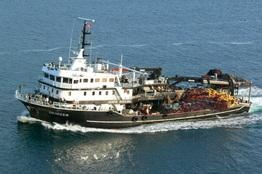otherboat: (16, 15, 254, 130)
